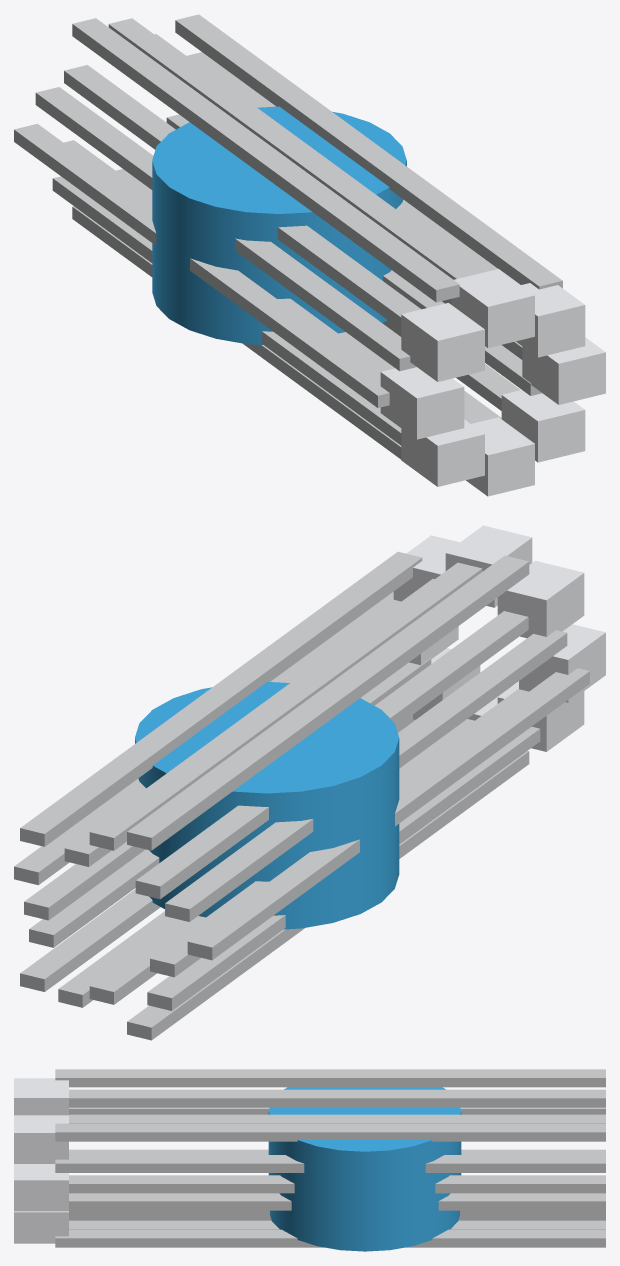
File: kabel_ties.glb
3 renders of one model, top to bottom at view 1: azimuth 30°, elevation 25°; view 2: azimuth 150°, elevation 25°; view 3: azimuth 270°, elevation 25°, orthographic. The views are drawn at different scales.
Size of the model in its own units: 0.28 by 0.2367 by 0.86.
